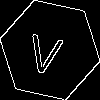V: (25, 25, 66, 76)
